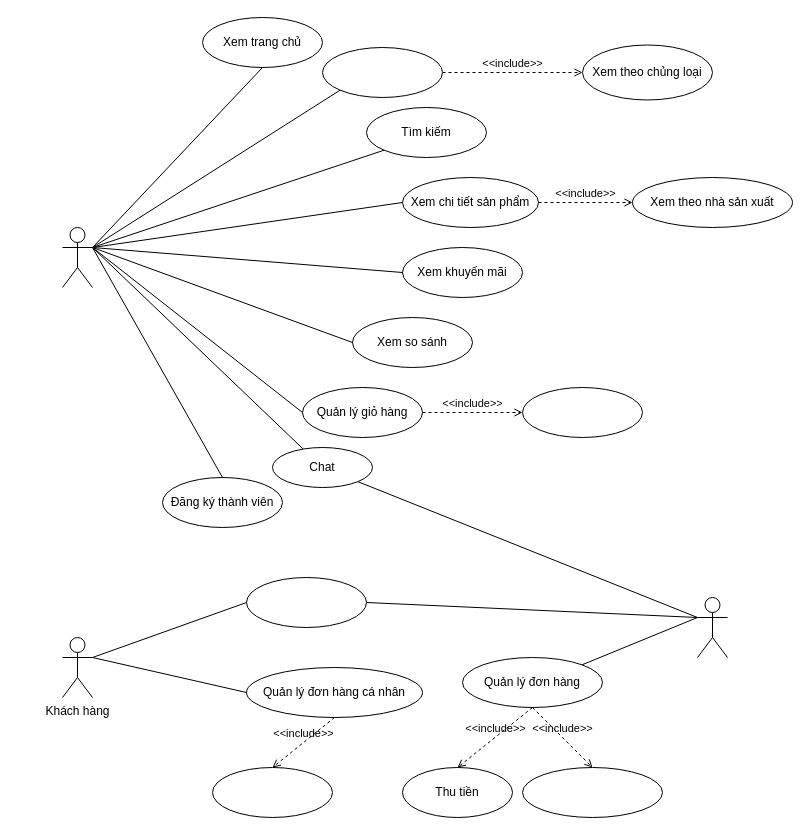
The diagram is 810 pixels wide and 835 high, and some of its shapes have lost their labels. Each missing label, with the box of its shape:
Khách hàng tiềm năng: (62, 226, 92, 288)
Mua hàng: (522, 386, 642, 438)
Người bán hàng: (696, 596, 728, 658)
Thanh toán: (212, 766, 332, 818)
Theo dõi chuyến hàng: (522, 766, 662, 818)
Xem sản phẩm: (322, 46, 442, 98)
Đăng nhập: (246, 576, 366, 628)
